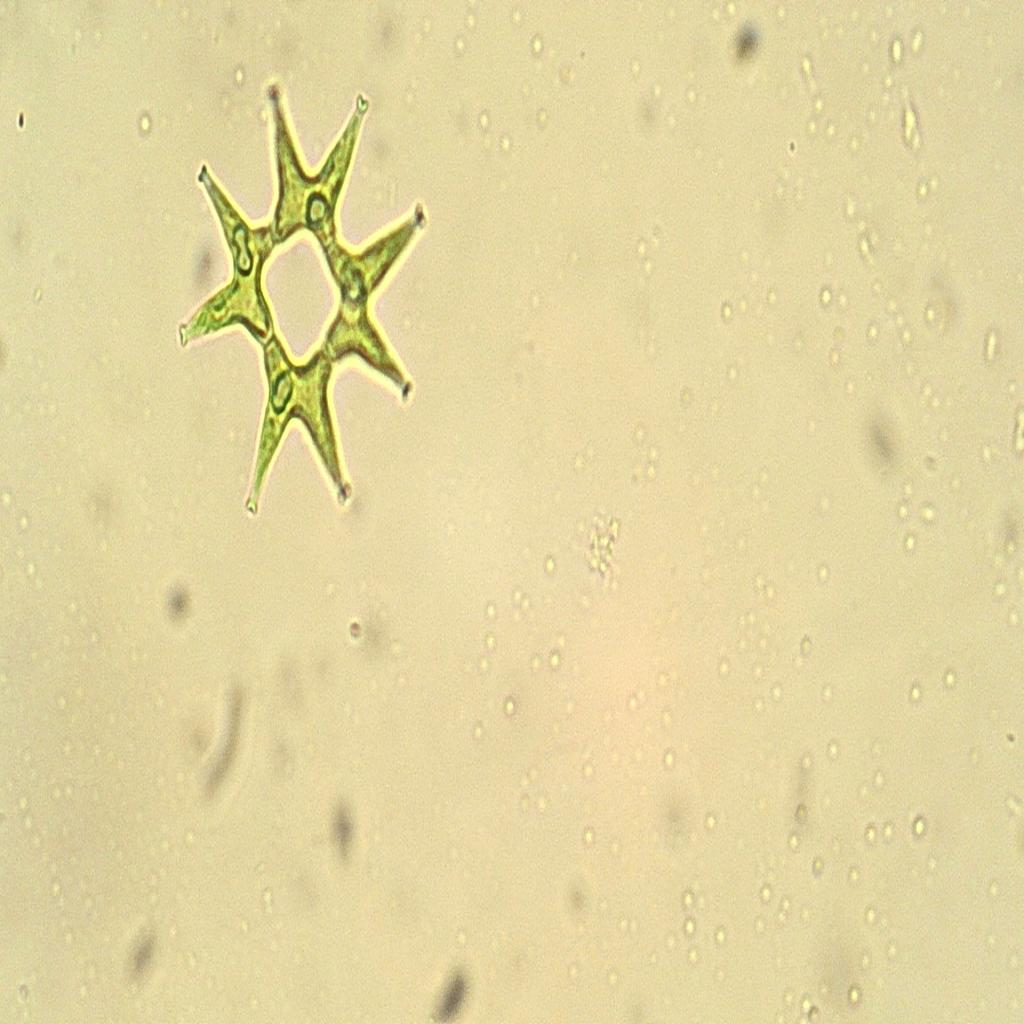Pediastrum_75O: (173, 68, 446, 554)
